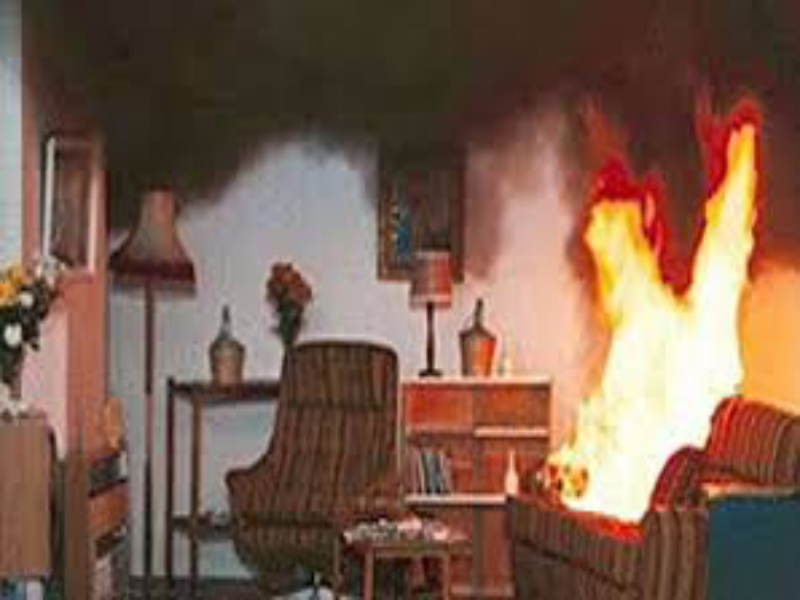fire: (532, 101, 769, 395), (535, 403, 724, 516)
